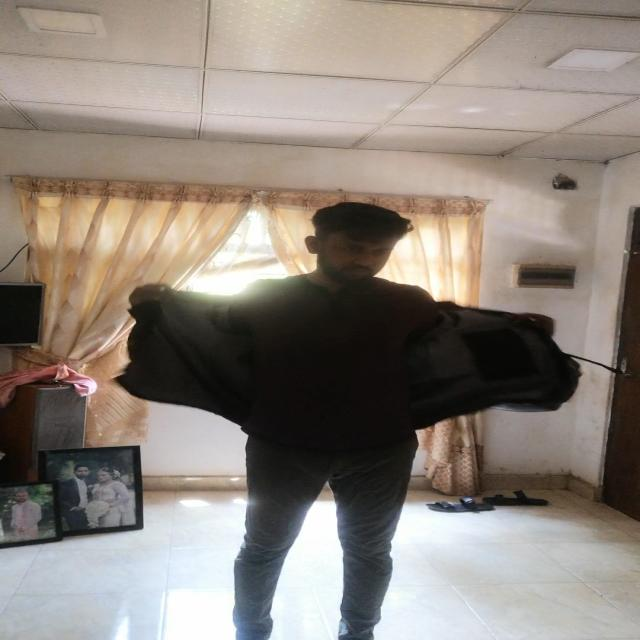Jacket_Wearer: (145, 264, 569, 469)
Person: (139, 195, 569, 640)
